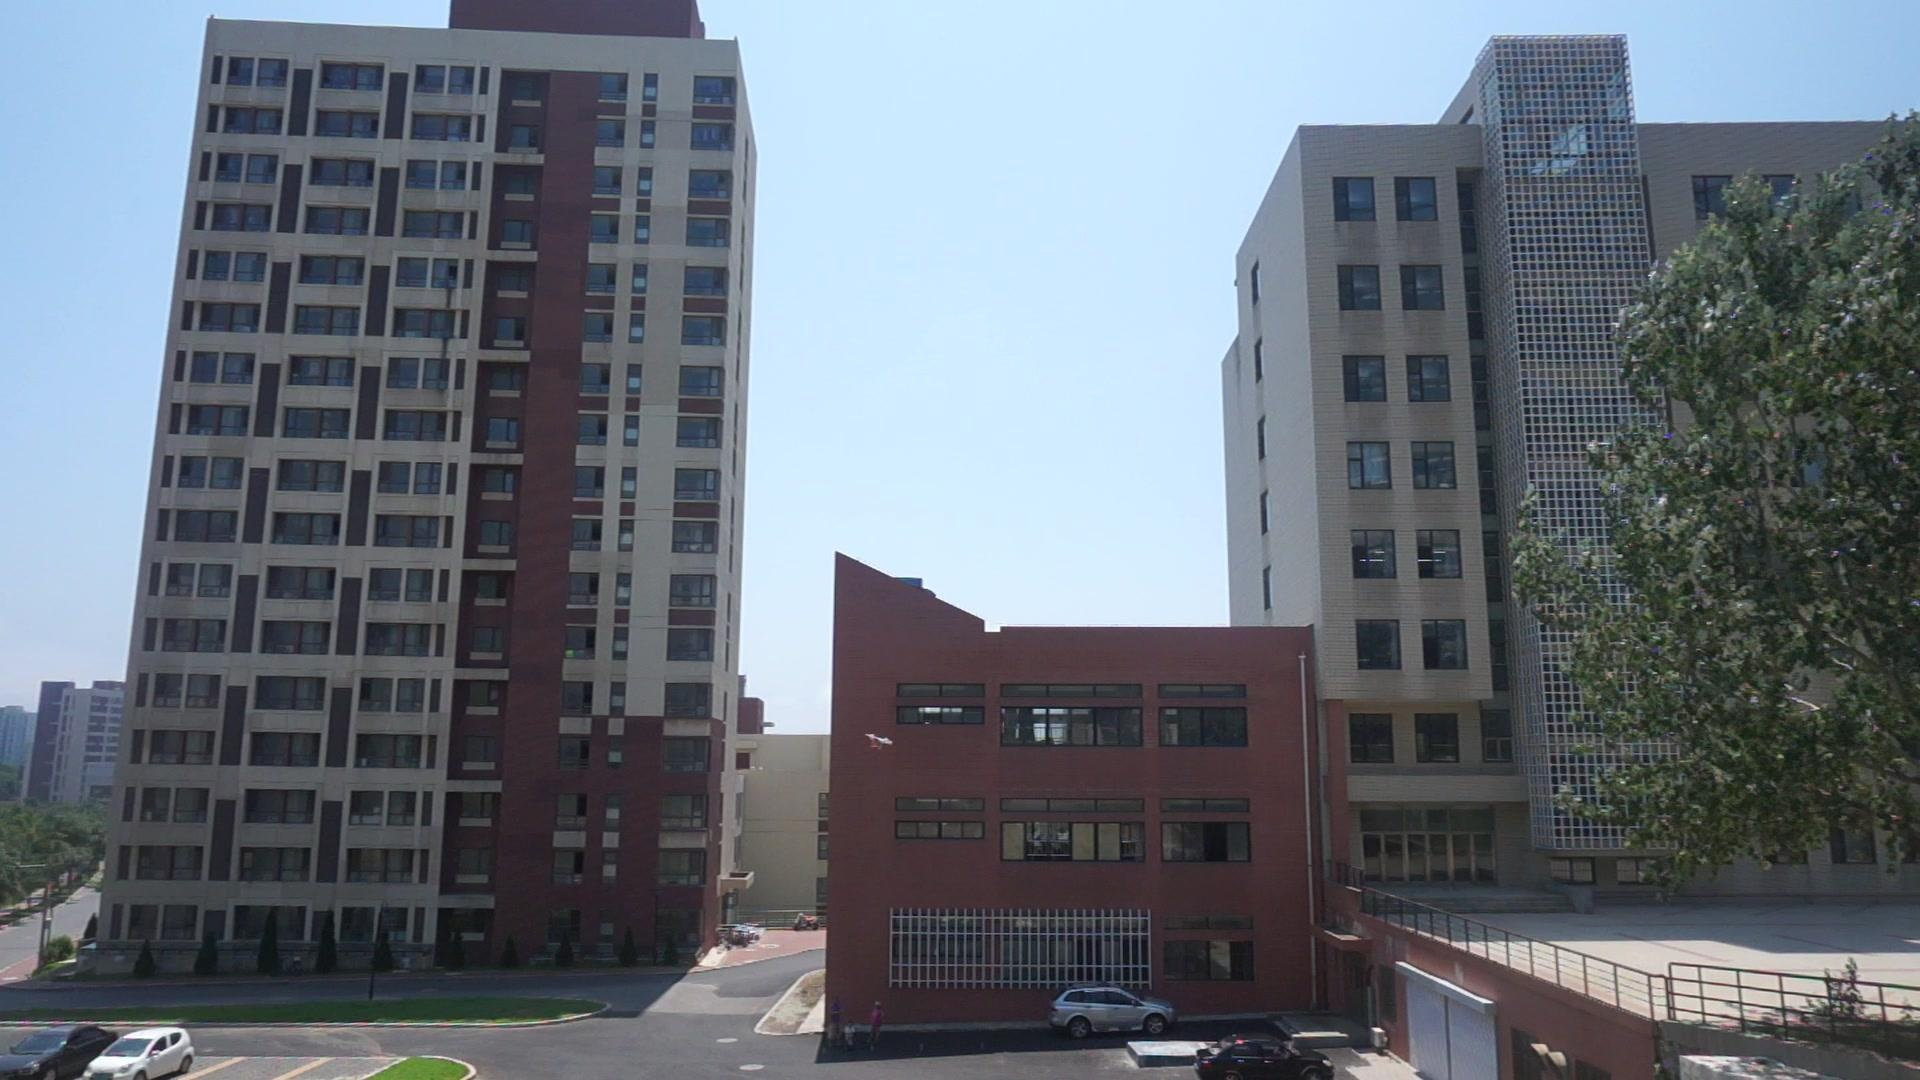UAV: (866, 735, 895, 752)
